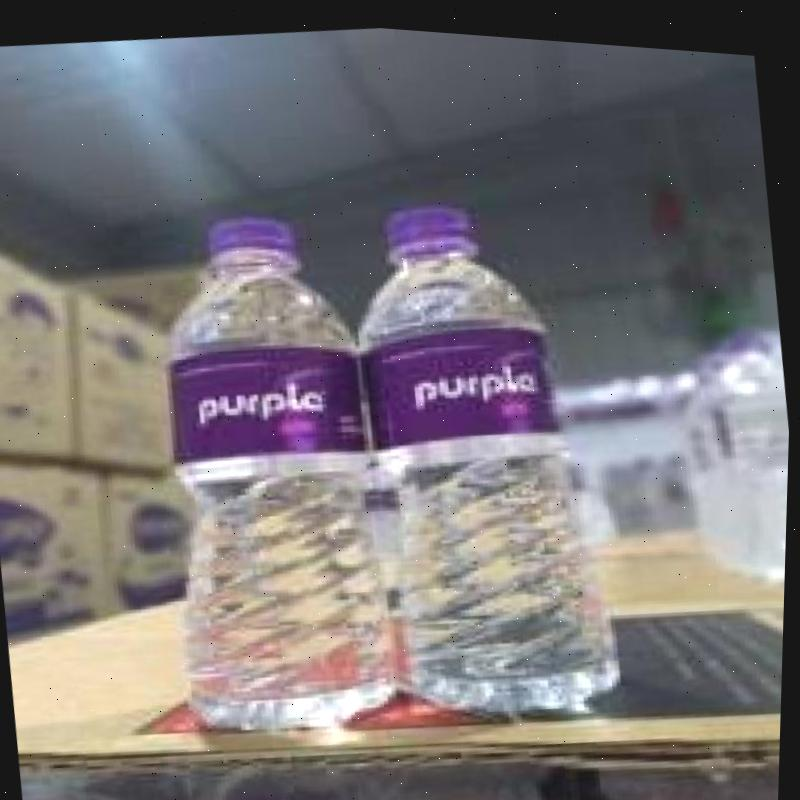botella: (337, 178, 638, 721), (129, 197, 422, 739)
